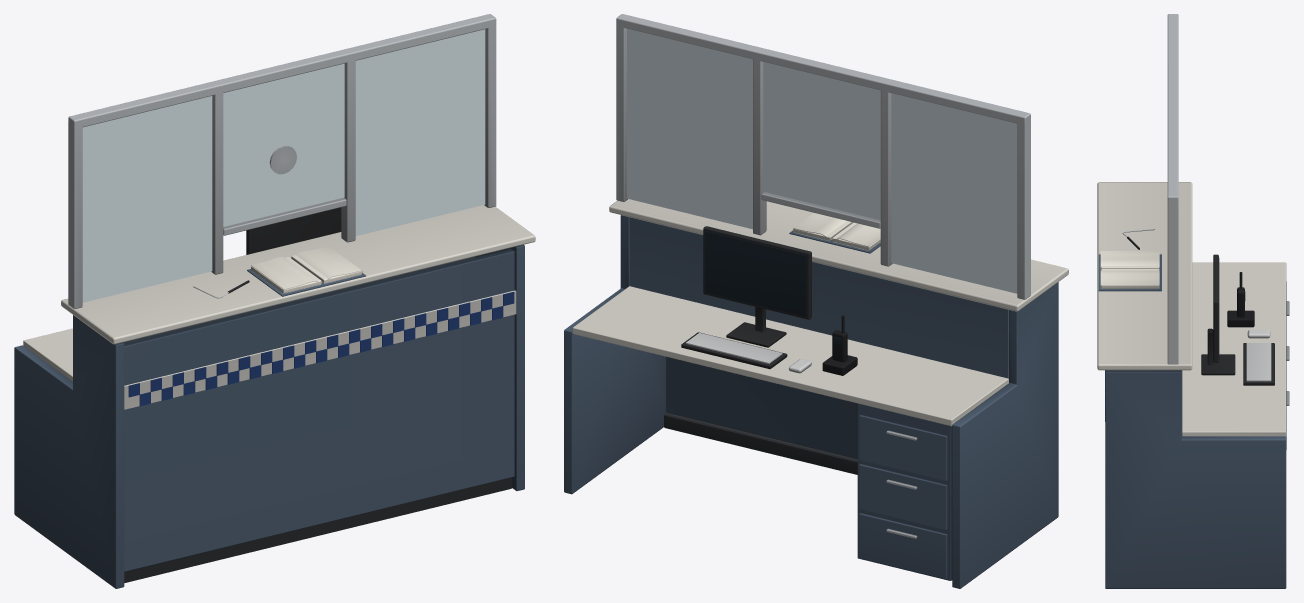
The model's file is dutyDesk.glb.
3 views of the same model, side by side, from view 1: azimuth 30°, elevation 25°; view 2: azimuth 150°, elevation 25°; view 3: azimuth 270°, elevation 25° (orthographic). The views are drawn at different scales.
Visible parts, largest first — view 1: desk; view 2: desk; view 3: desk.
Boxes of the visible parts, left/top/right/bottom form: desk: left=14, top=14, right=535, bottom=588; desk: left=564, top=14, right=1068, bottom=588; desk: left=1097, top=14, right=1289, bottom=588.
Size of the model in its own units: 1.92 by 1.93 by 0.85.
